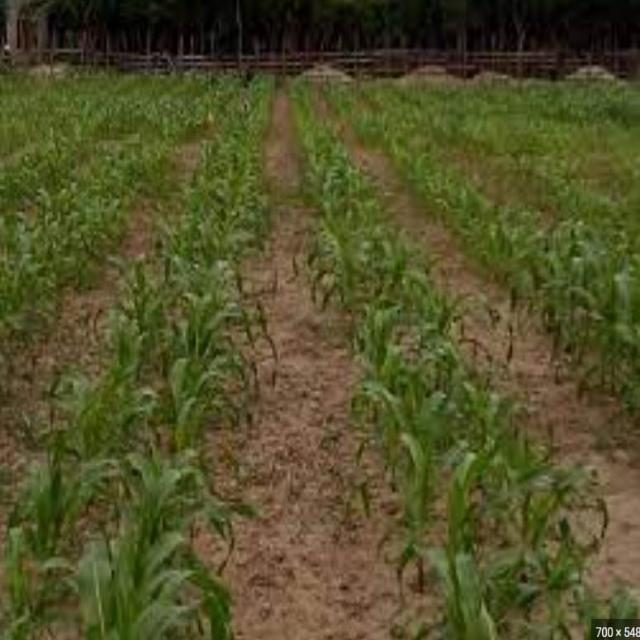row: (310, 77, 640, 637), (183, 74, 445, 640), (0, 128, 220, 526)
